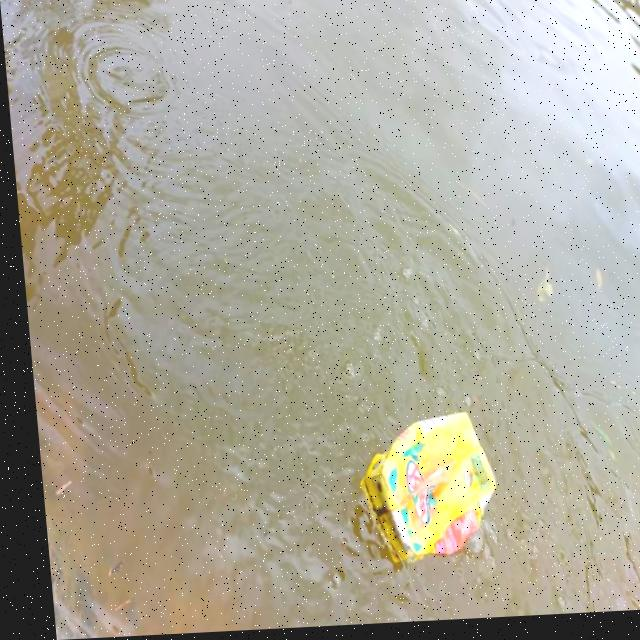paper: (339, 414, 514, 583)
